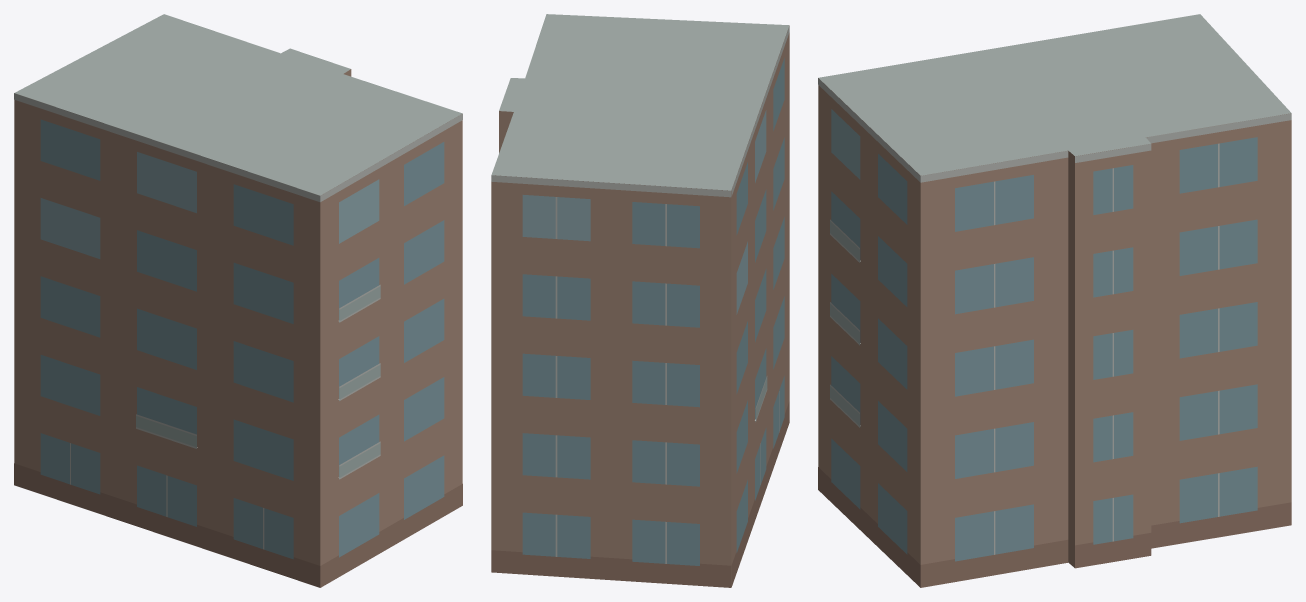
The model's file is survey-upis-32751094.glb.
The picture shows the model from 3 angles, left to right: view 1: azimuth 30°, elevation 25°; view 2: azimuth 150°, elevation 25°; view 3: azimuth 270°, elevation 25°; orthographic projection. The views are drawn at different scales.
Visible parts, largest first — view 1: survey-upis-32751094.tmp; view 2: survey-upis-32751094.tmp; view 3: survey-upis-32751094.tmp.
Boxes of the visible parts, x1,y1,x2,y2 form: survey-upis-32751094.tmp: (14,14,462,587); survey-upis-32751094.tmp: (491,14,789,587); survey-upis-32751094.tmp: (818,14,1291,587).
Size of the model in its own units: 12.31 by 14.6 by 15.22.
